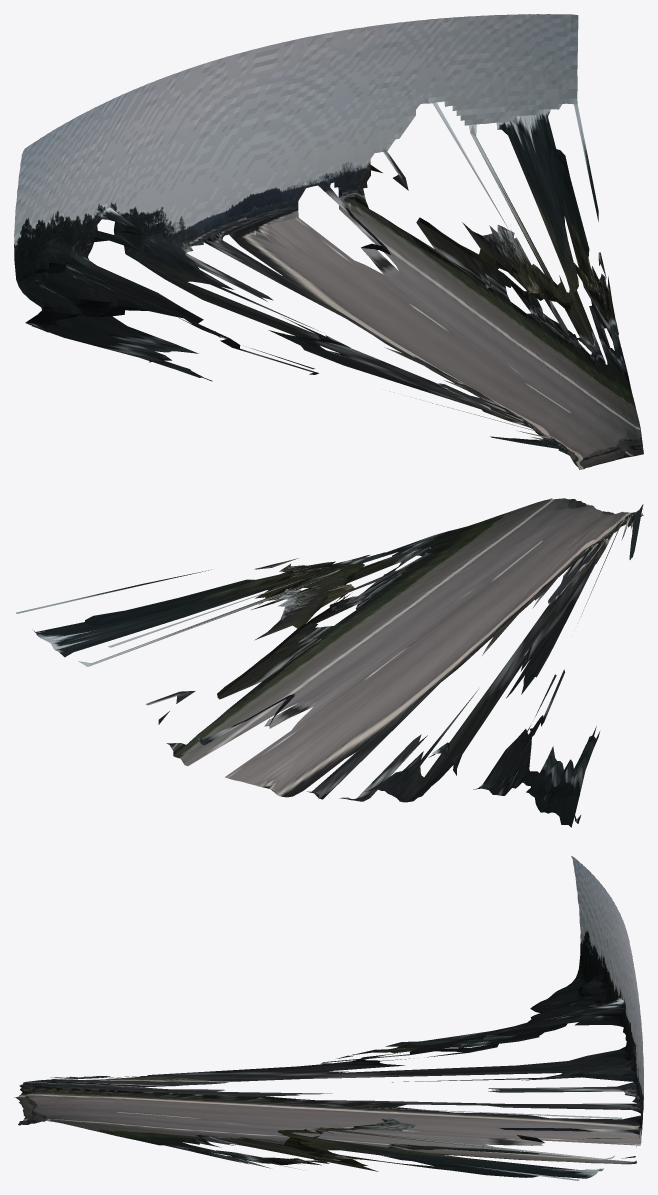
The picture shows the model from 3 angles, top to bottom: view 1: azimuth 30°, elevation 25°; view 2: azimuth 150°, elevation 25°; view 3: azimuth 270°, elevation 25°; orthographic projection. The views are drawn at different scales.
Visible parts, largest first — view 1: defaultobject; view 2: defaultobject; view 3: defaultobject.
Part boxes in pixels (x1,y1,x2,y2): defaultobject: (14,14,643,469); defaultobject: (16,498,643,827); defaultobject: (14,856,643,1180).
Bounding box in the file's own units: 41.09 × 13.7 × 44.79.
Materials: 1 (1 with a texture image).
